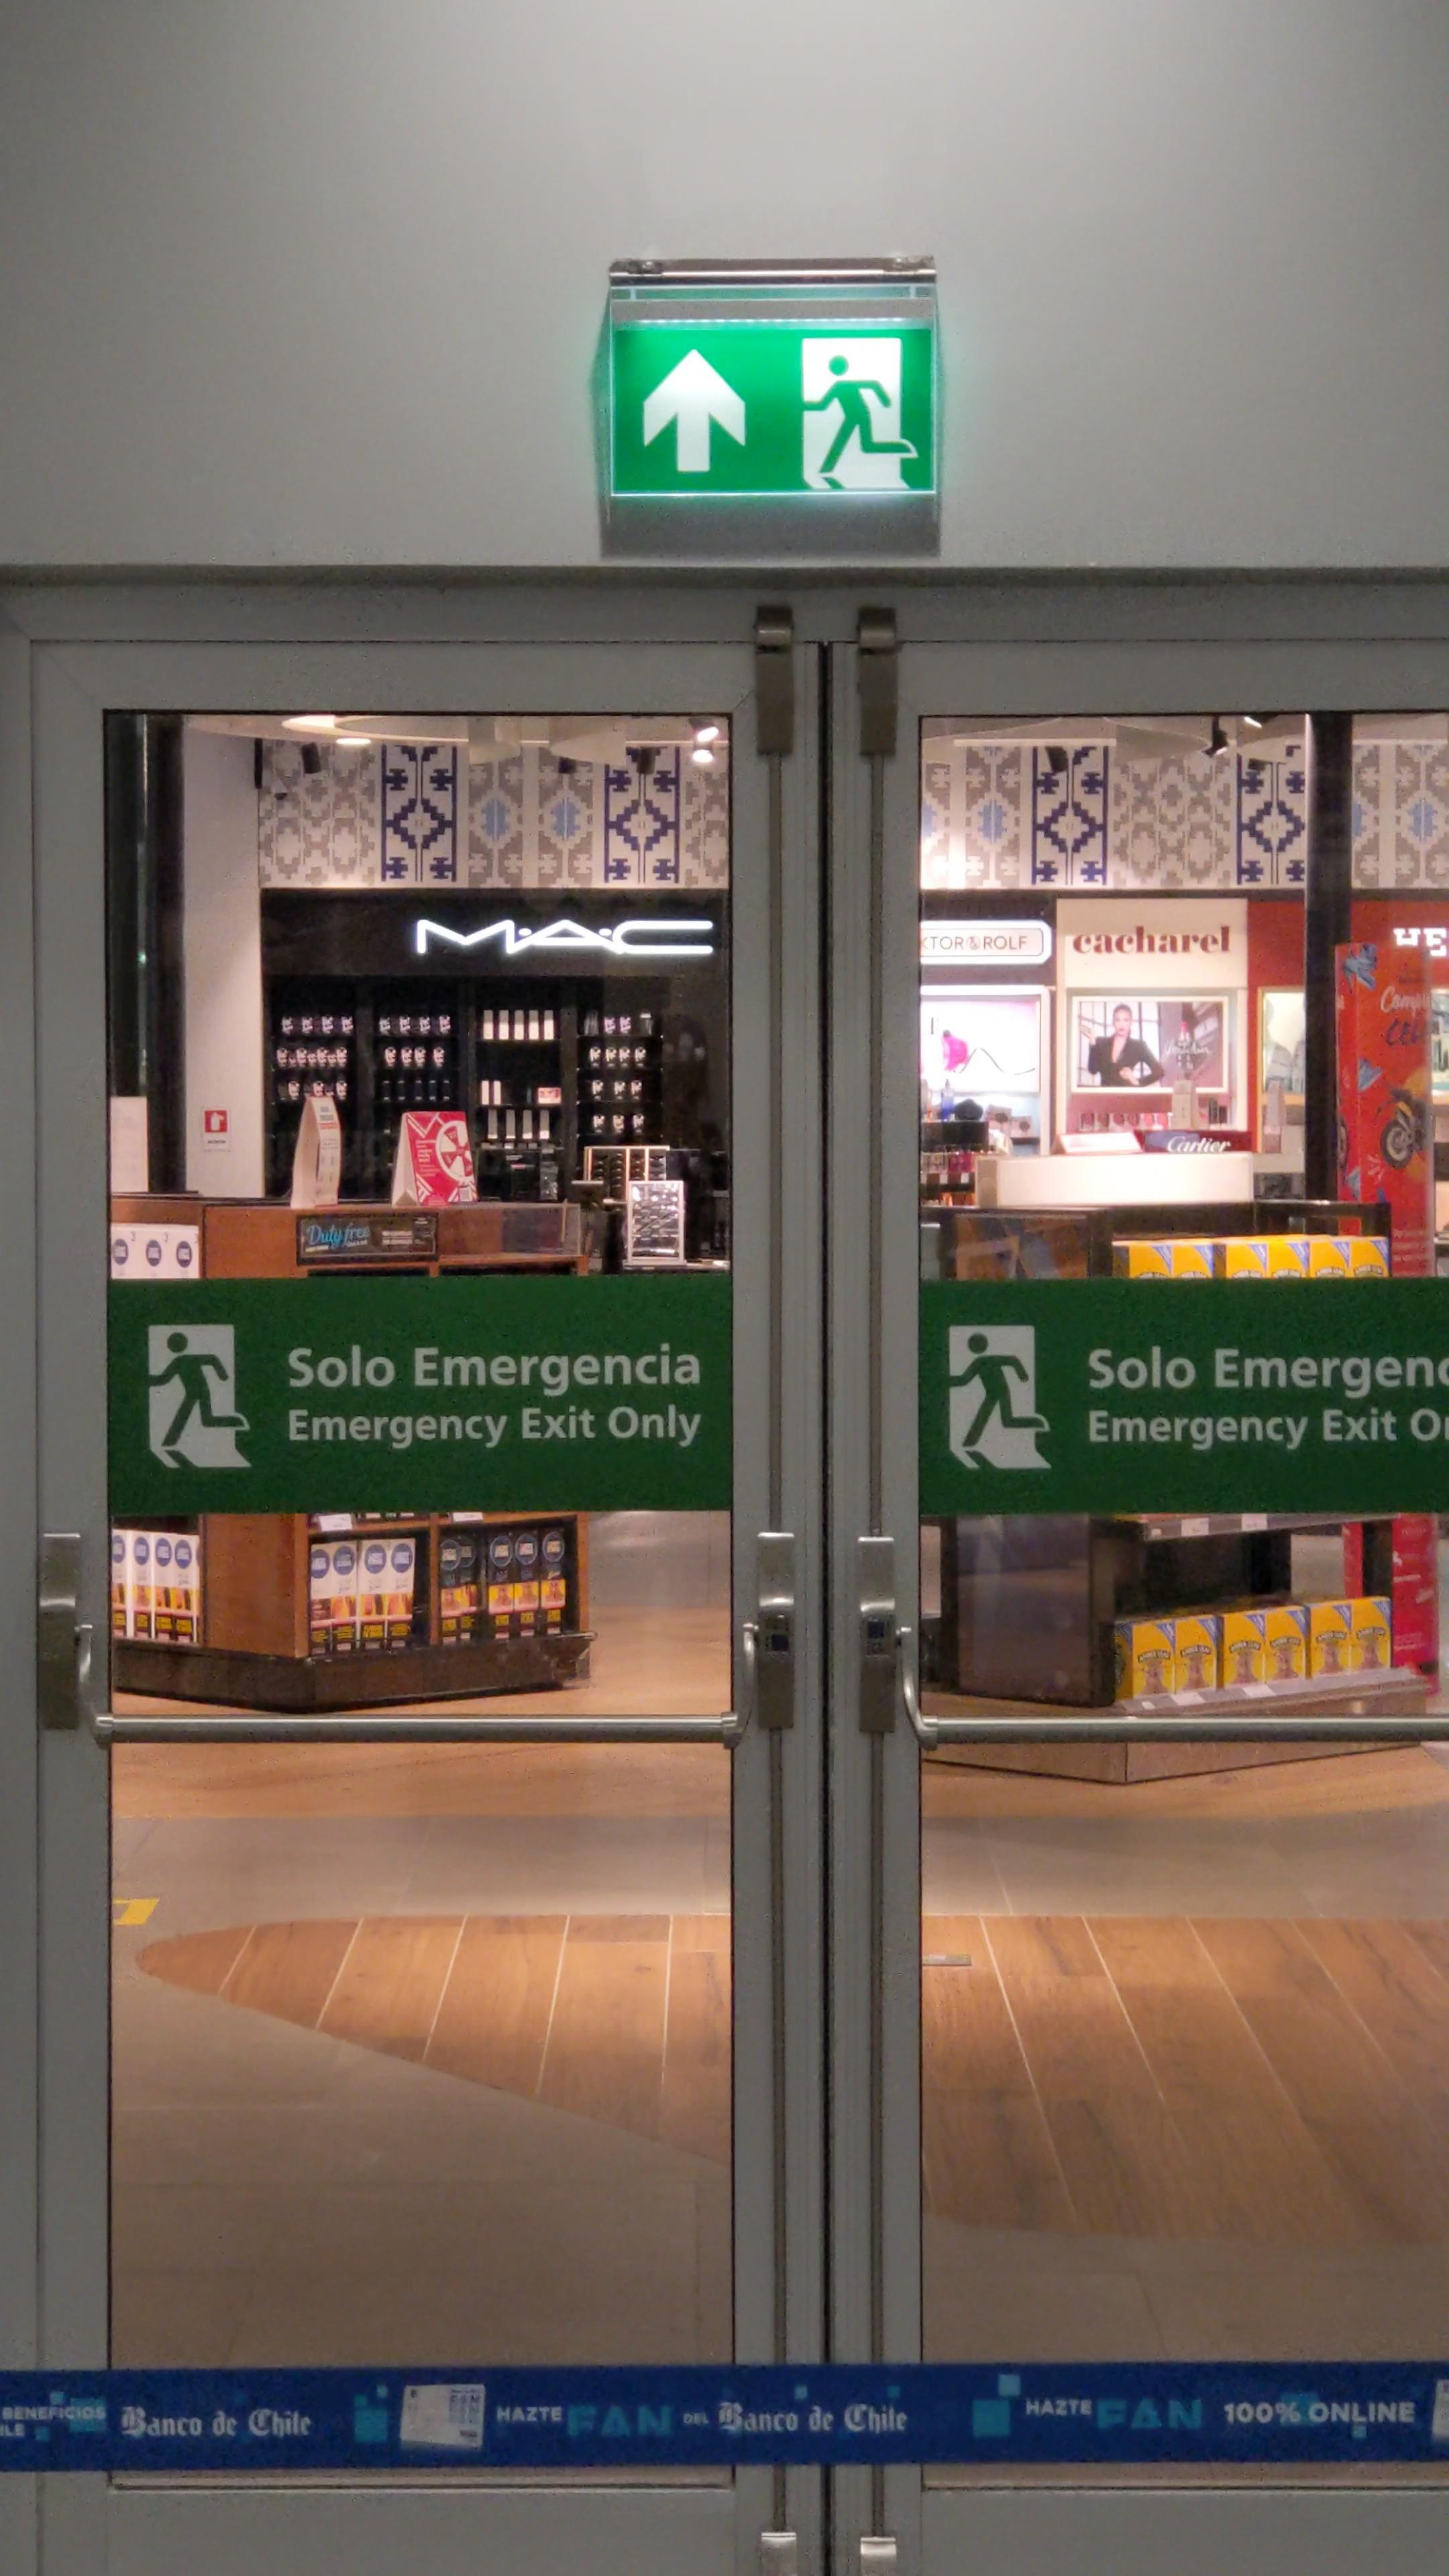emergency exit: (793, 331, 916, 495), (941, 1320, 1053, 1470), (145, 1323, 253, 1474)
up arrow: (635, 345, 754, 479)
